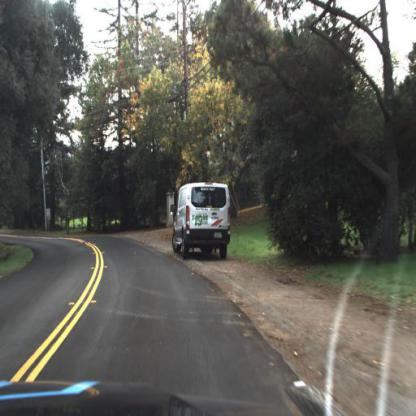truck: (175, 180, 232, 259)
